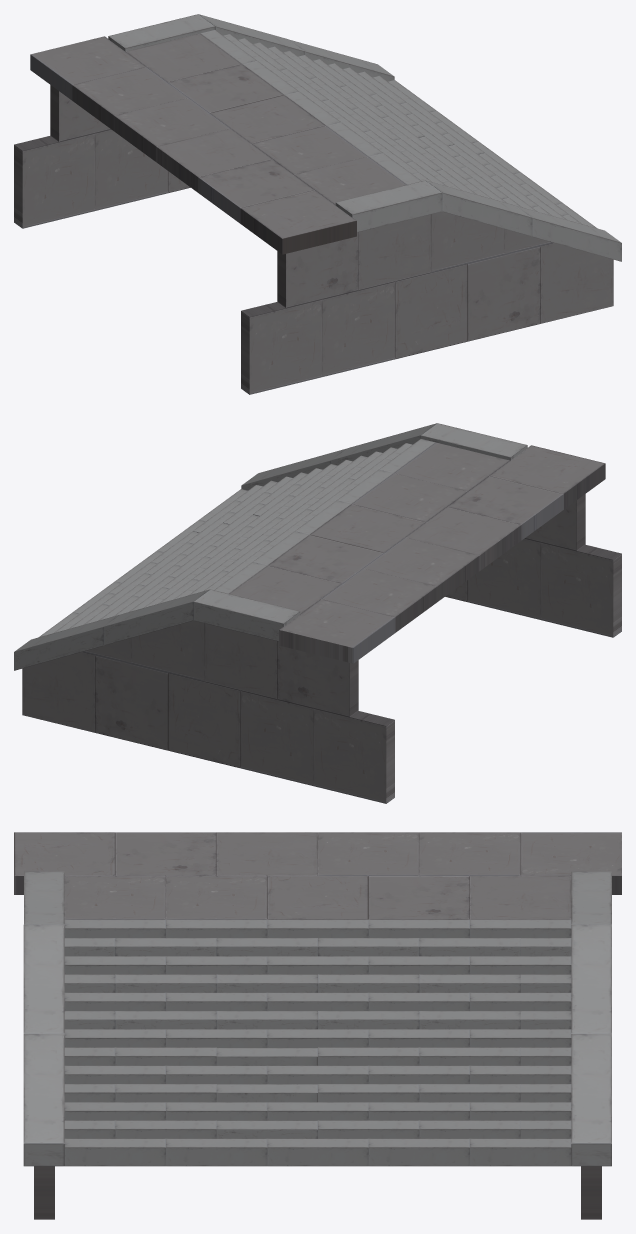
The model's file is Mod_ArenaStair.fbx.
3 renders of one model, top to bottom at view 1: azimuth 30°, elevation 25°; view 2: azimuth 150°, elevation 25°; view 3: azimuth 270°, elevation 25°, orthographic. The views are drawn at different scales.
Visible parts, largest first — view 1: mod_ArenaStair; view 2: mod_ArenaStair; view 3: mod_ArenaStair.
Part boxes in pixels (left/top/right/bottom): mod_ArenaStair: left=14, top=14, right=621, bottom=394; mod_ArenaStair: left=14, top=423, right=621, bottom=803; mod_ArenaStair: left=14, top=832, right=621, bottom=1219.
Size of what is drawn, in the model's own units: 1267 by 524 by 1504.
